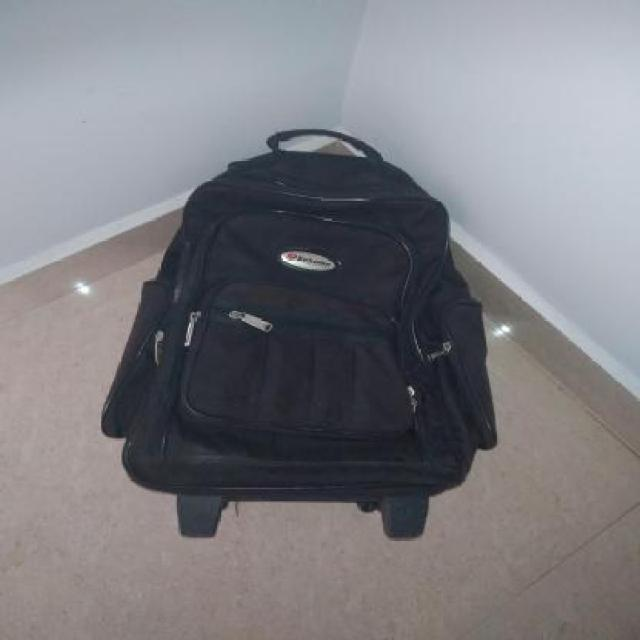backpack: (100, 123, 503, 545)
